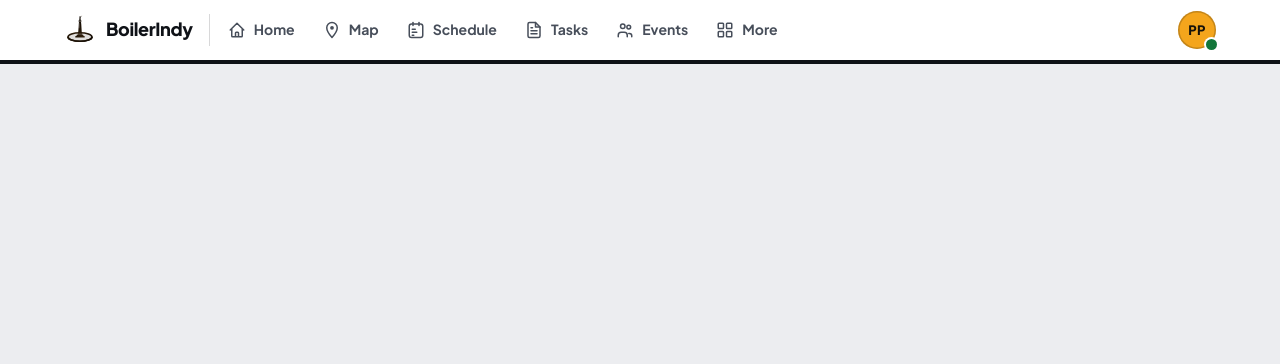
Test: Navbar › an admin gets the console in the menu, and still no advertiser entry
Click the button with aria-label "PP, account menu for Pete Purdue" at (1197, 30), box top-left (1178, 11), bottom-right (1216, 49)
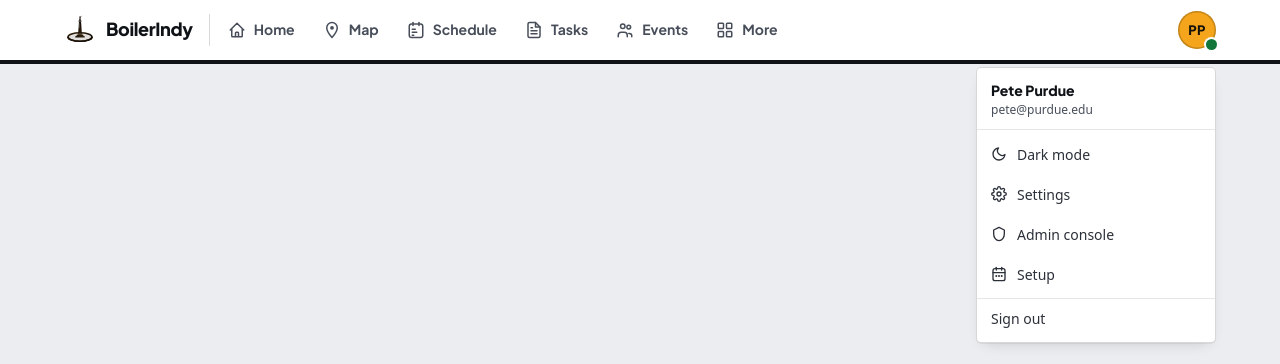
expect the menu items read "Dark mode", "Settings", "Admin console", "Setup", "Sign out", in this order: met, box top-left (977, 134), bottom-right (1215, 174); top-left (991, 184), bottom-right (1070, 204); top-left (991, 224), bottom-right (1114, 244); top-left (991, 264), bottom-right (1055, 284); top-left (977, 298), bottom-right (1215, 338)
